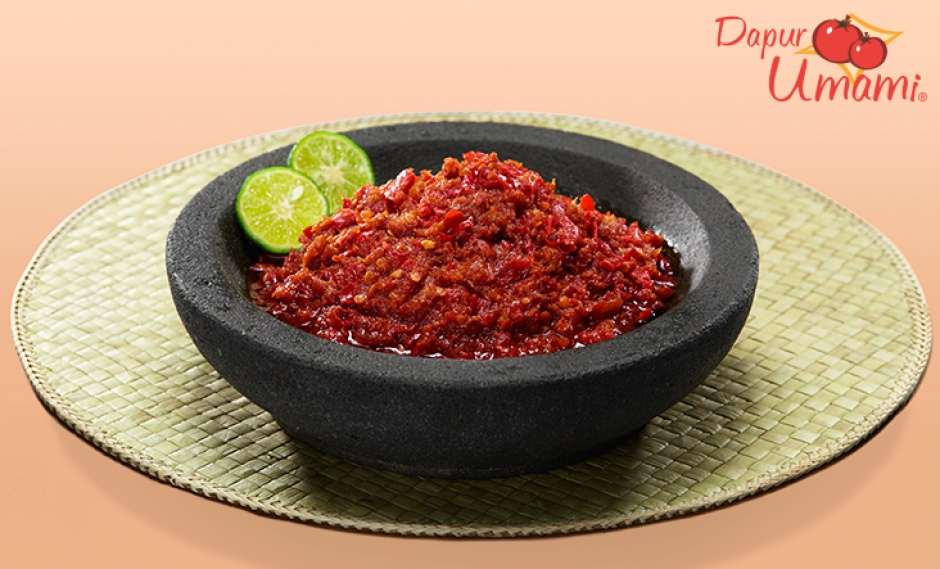sambal: (246, 148, 677, 363)
